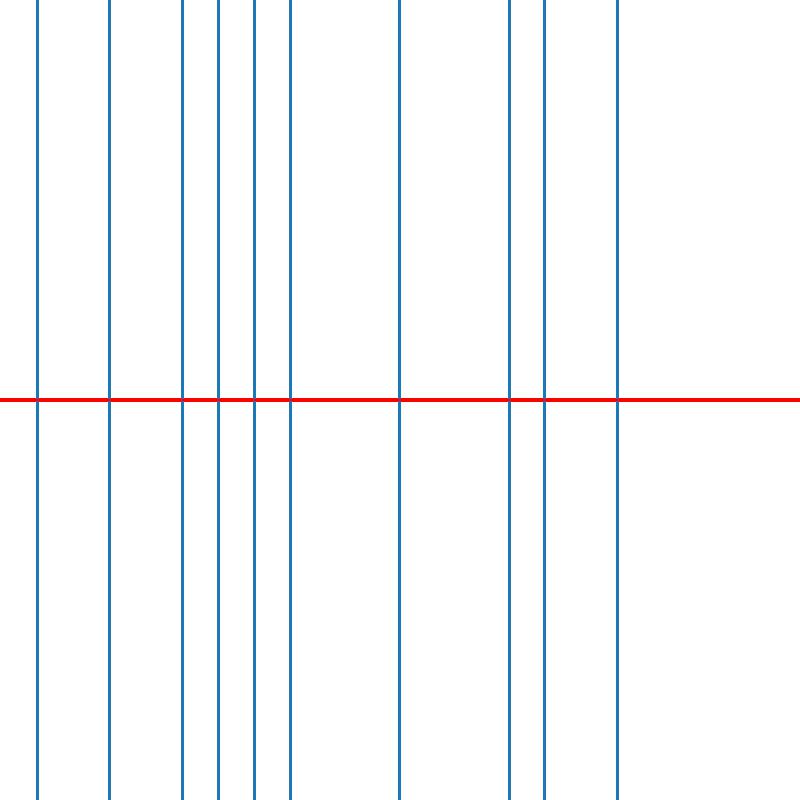root: (250, 396, 258, 404), (32, 396, 40, 404), (541, 396, 549, 404), (105, 396, 112, 404), (214, 396, 221, 404), (287, 396, 294, 404), (505, 396, 512, 404), (396, 396, 403, 404), (614, 396, 621, 404), (178, 396, 185, 404)
